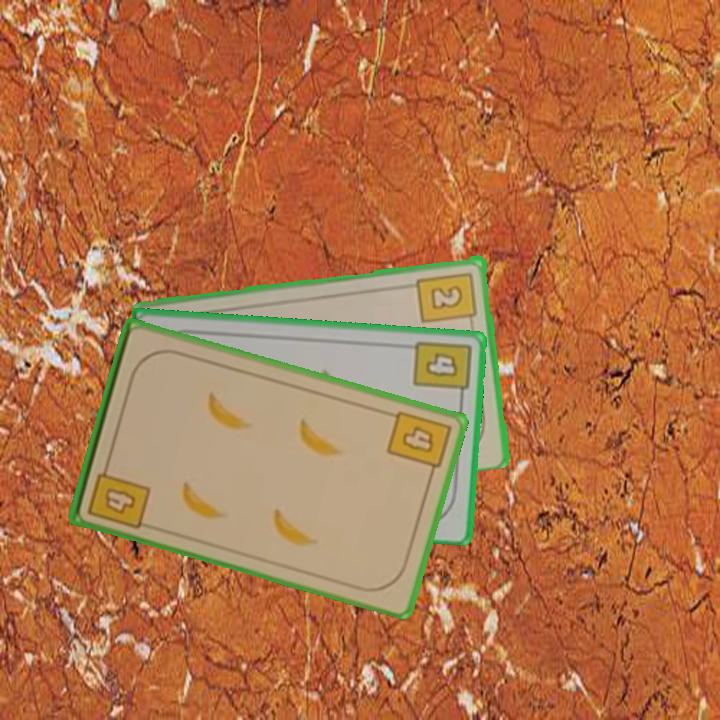2b: (414, 268, 481, 329)
4b: (383, 407, 454, 481), (84, 457, 153, 532), (410, 336, 474, 403)
